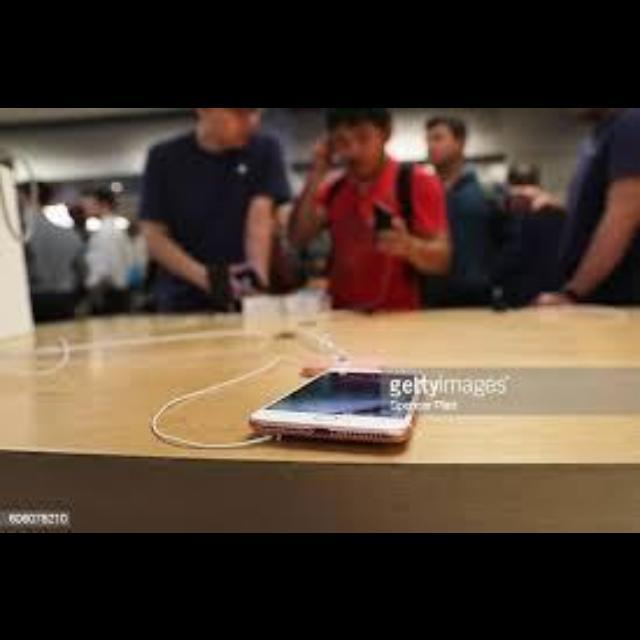phone: (222, 337, 450, 457)
